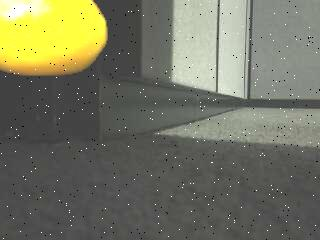Lemon: (0, 0, 109, 78)
